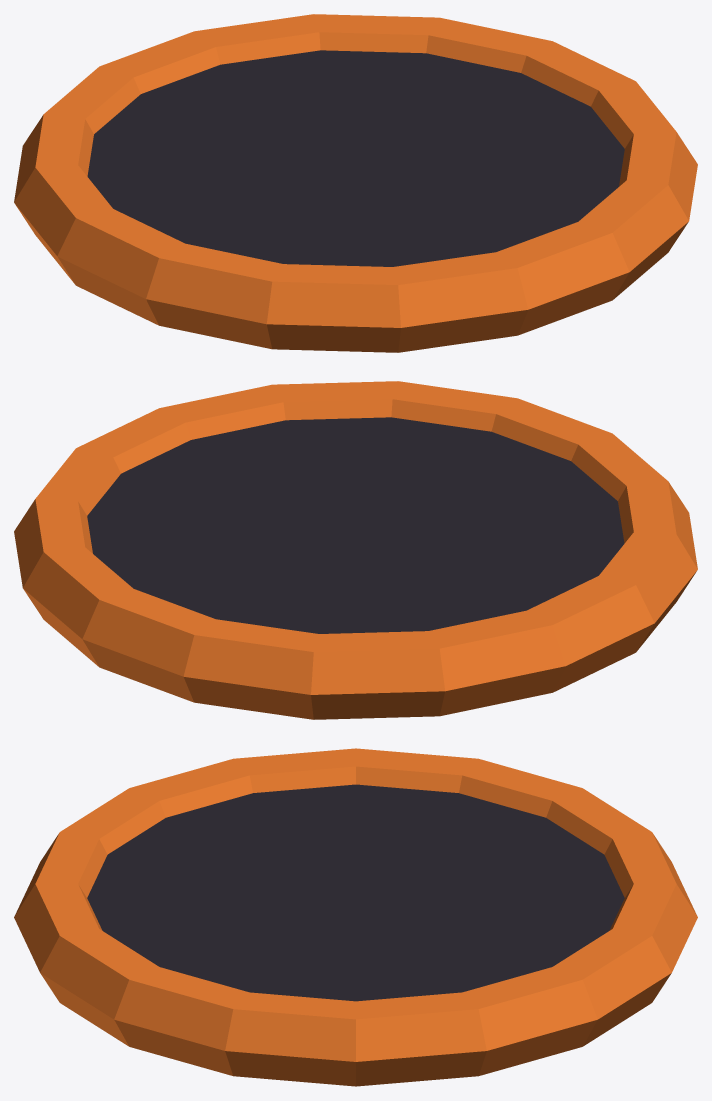
3 views of the same model, one above another, from view 1: azimuth 30°, elevation 25°; view 2: azimuth 150°, elevation 25°; view 3: azimuth 270°, elevation 25° (orthographic).
Parts seen in each view (by area): view 1: vent_ring, vent_back; view 2: vent_ring, vent_back; view 3: vent_ring, vent_back.
Part boxes in pixels (x1,y1,x2,y2): vent_ring: [14, 14, 697, 352]; vent_back: [87, 50, 624, 266]; vent_ring: [14, 381, 697, 719]; vent_back: [87, 417, 624, 633]; vent_ring: [14, 748, 697, 1086]; vent_back: [87, 784, 624, 1001].
Size of the model in its own units: 0.96 by 0.1092 by 0.96.
